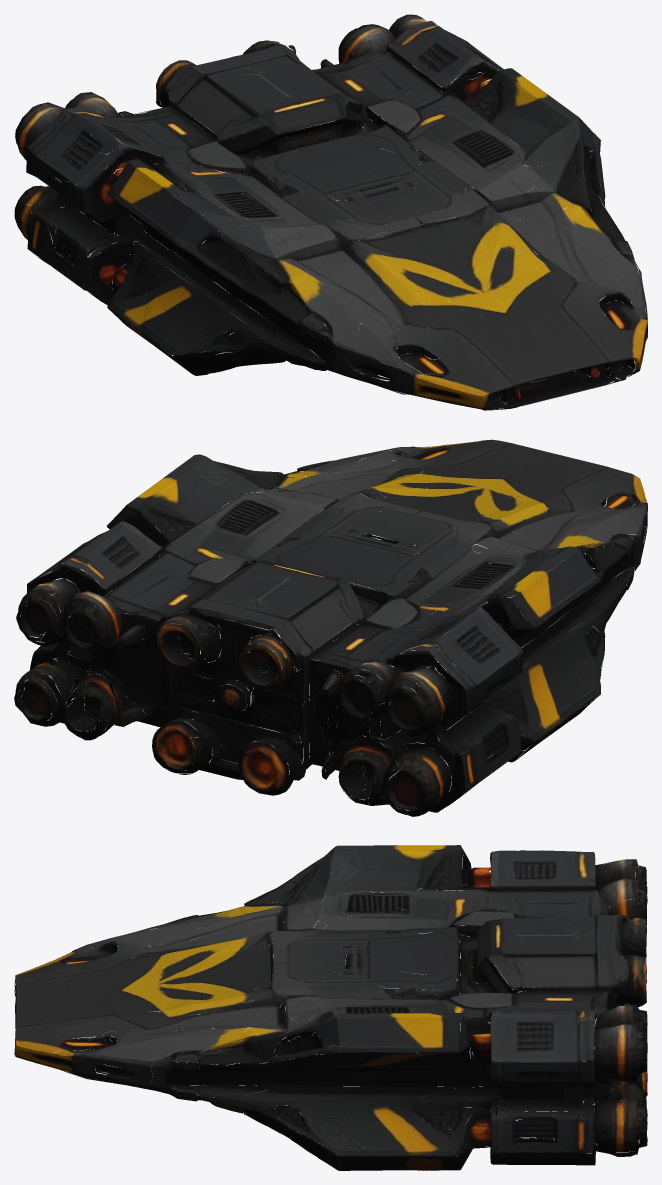
File: valkyr-stealth.glb
3 views of the same model, one above another, from view 1: azimuth 30°, elevation 25°; view 2: azimuth 150°, elevation 25°; view 3: azimuth 270°, elevation 25° (orthographic). The views are drawn at different scales.
Visible parts, largest first — view 1: world; view 2: world; view 3: world.
Boxes of the visible parts, x1,y1,x2,y2 form: world: (14,14,647,410); world: (14,439,647,816); world: (14,845,647,1170).
Size of the model in its own units: 0.7424 by 0.2699 by 1.
1 material, 1 textured.
